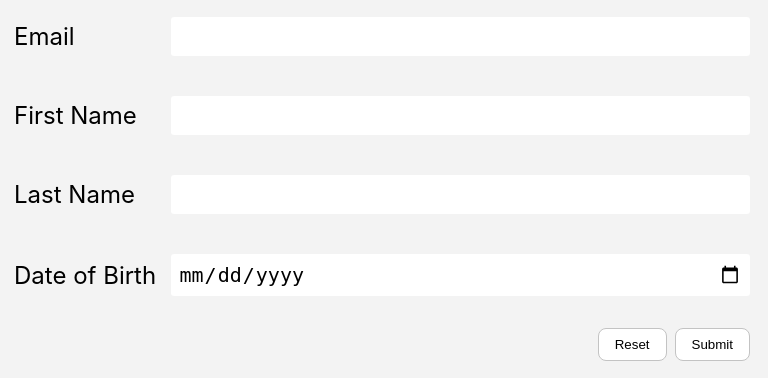
Test case: Should show validation errors for required fields
Click the button "Submit": [712, 344] box 674,328 -> 750,361
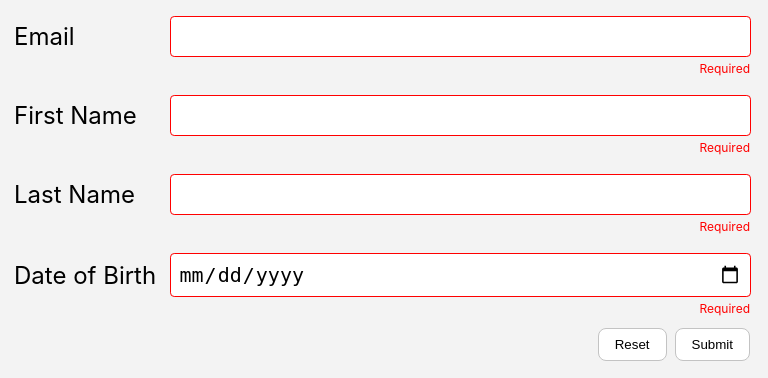
Check: the text "Required" is shown 4 times, box 699,61 -> 750,76; 699,140 -> 750,155; 699,219 -> 750,234; 699,301 -> 750,316
